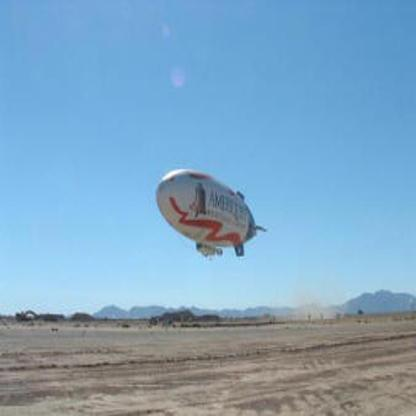Airship: (154, 169, 270, 261)
